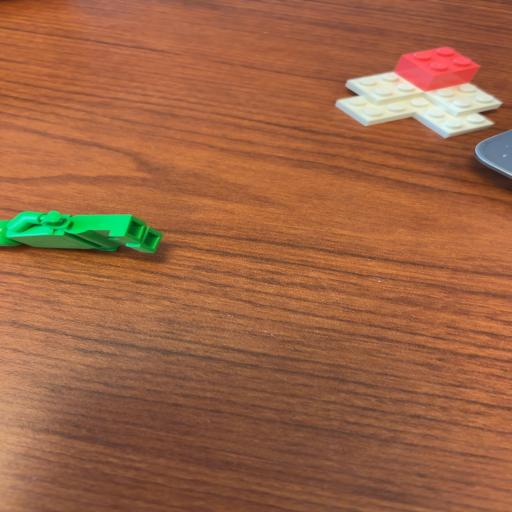UnoQ-minifig-detector: (0, 212, 161, 253)
